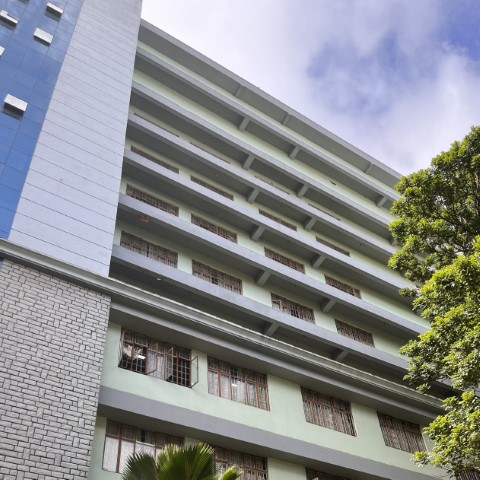Central Block: (1, 1, 409, 480)
